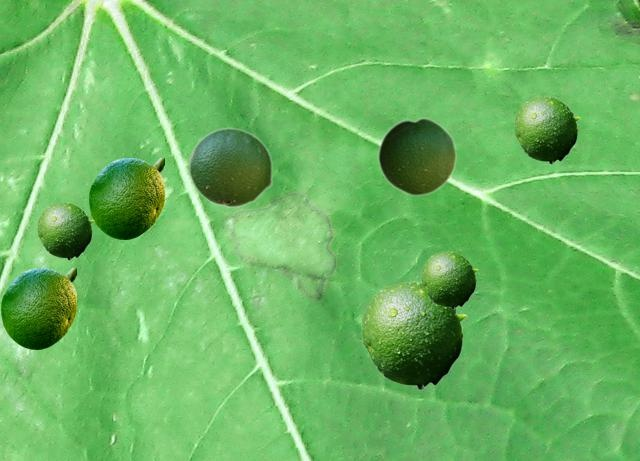dalandan: (361, 281, 466, 389), (188, 127, 272, 207), (377, 116, 456, 196), (1, 268, 75, 348), (89, 158, 163, 238), (514, 96, 579, 163), (421, 251, 477, 308), (37, 202, 93, 259)
